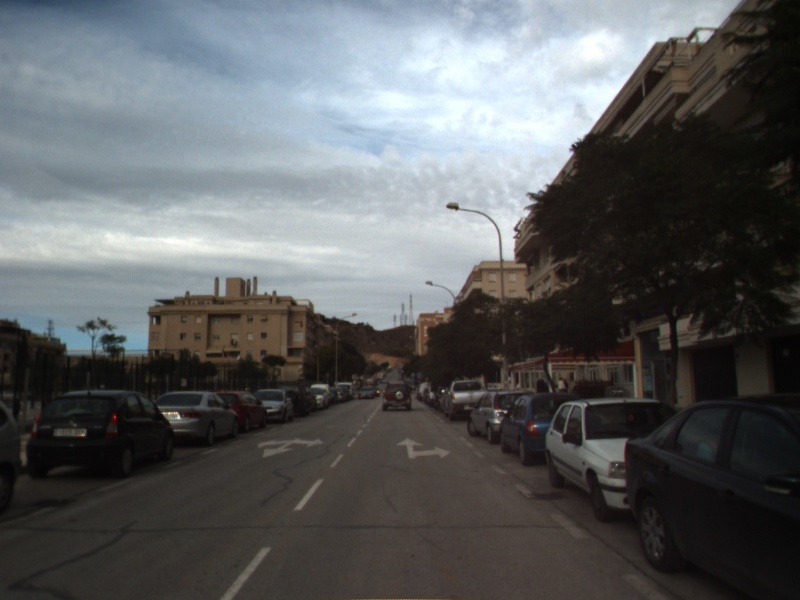STRAIGHT_RIGHT: (394, 436, 453, 461)
